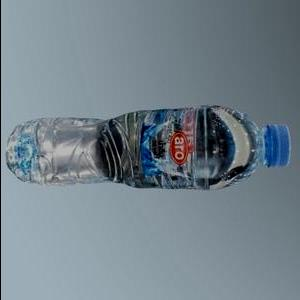bottle: (3, 102, 294, 198)
